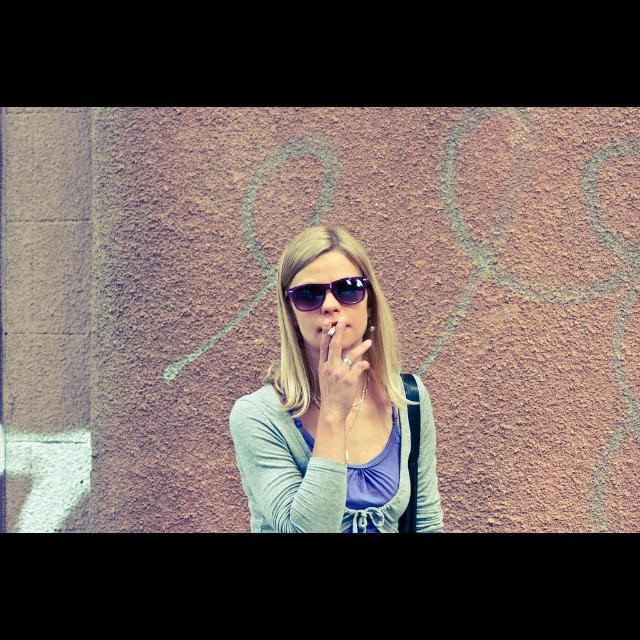rokok: (324, 323, 340, 339)
